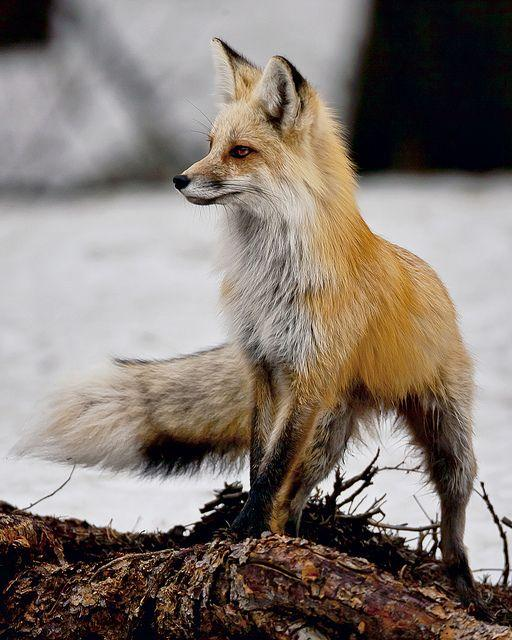fox: (130, 33, 486, 592)
